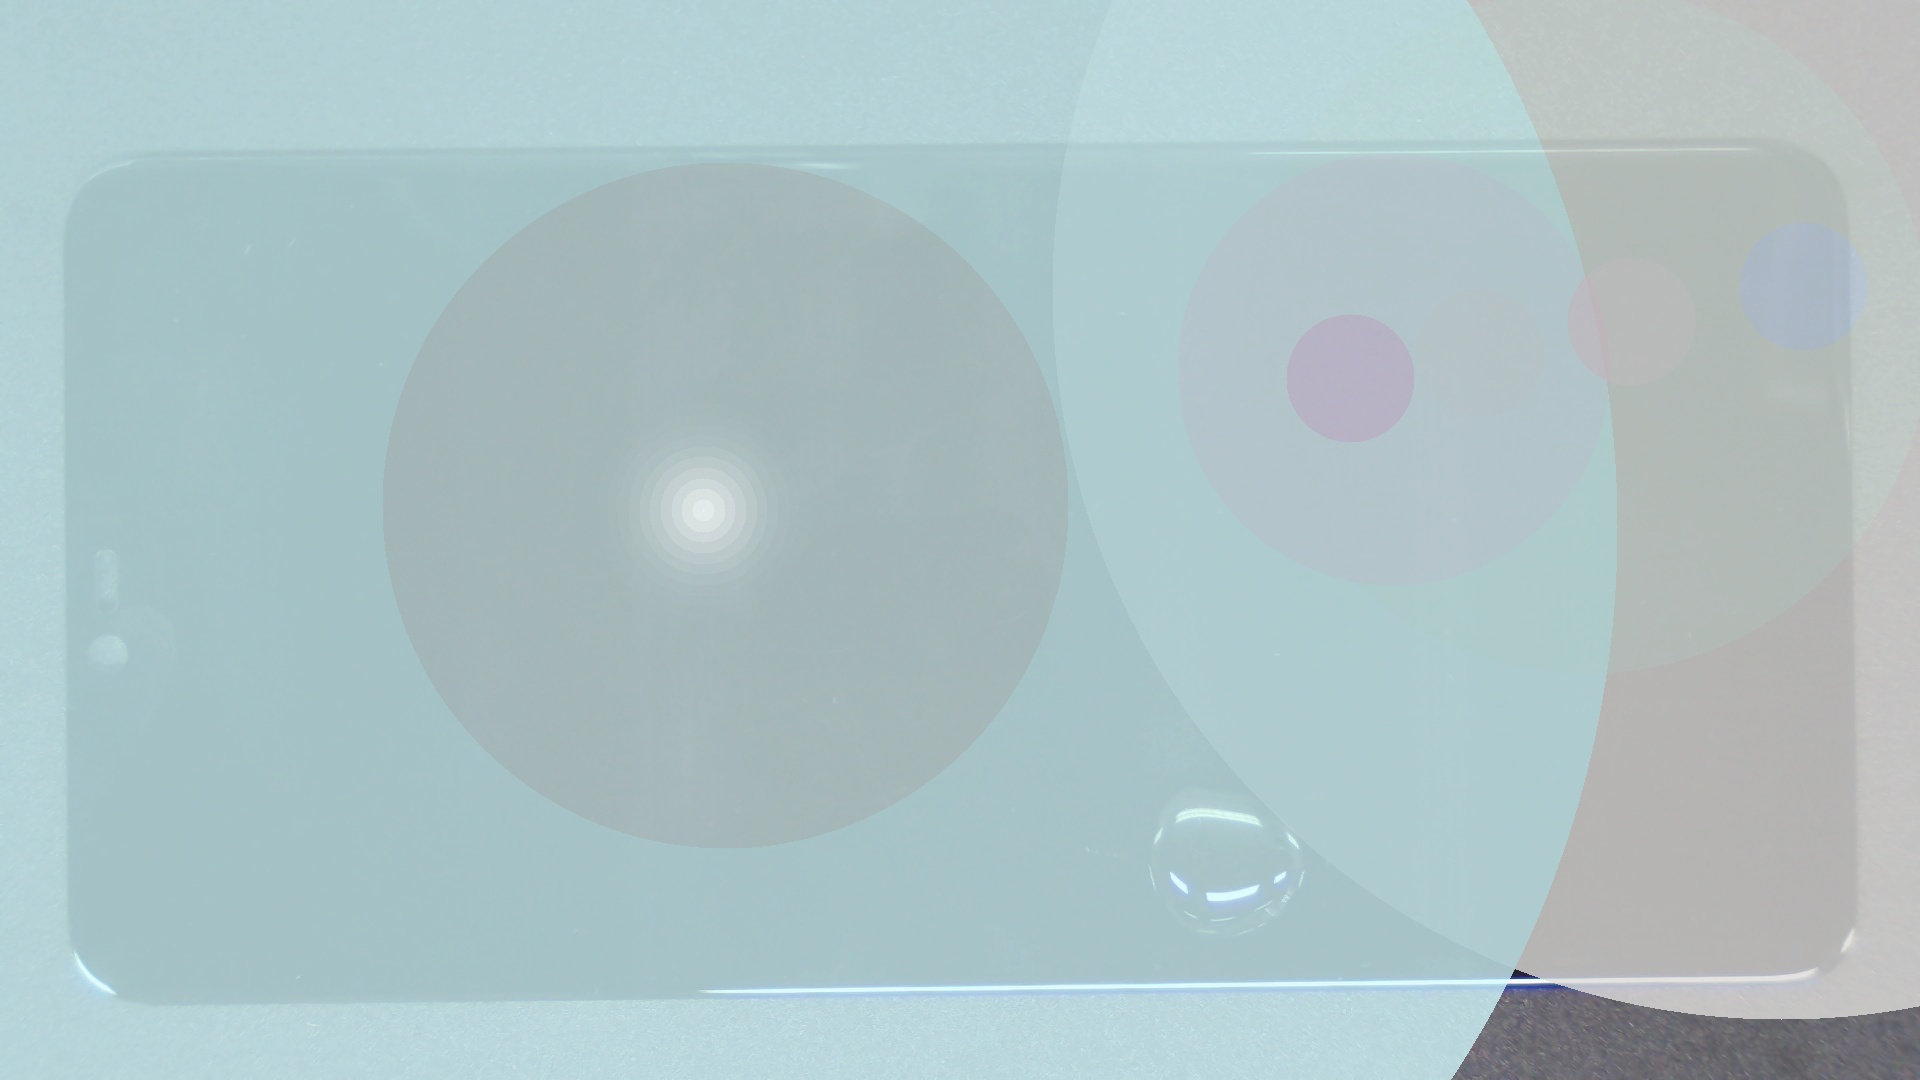oil: (596, 392, 1785, 1080)
